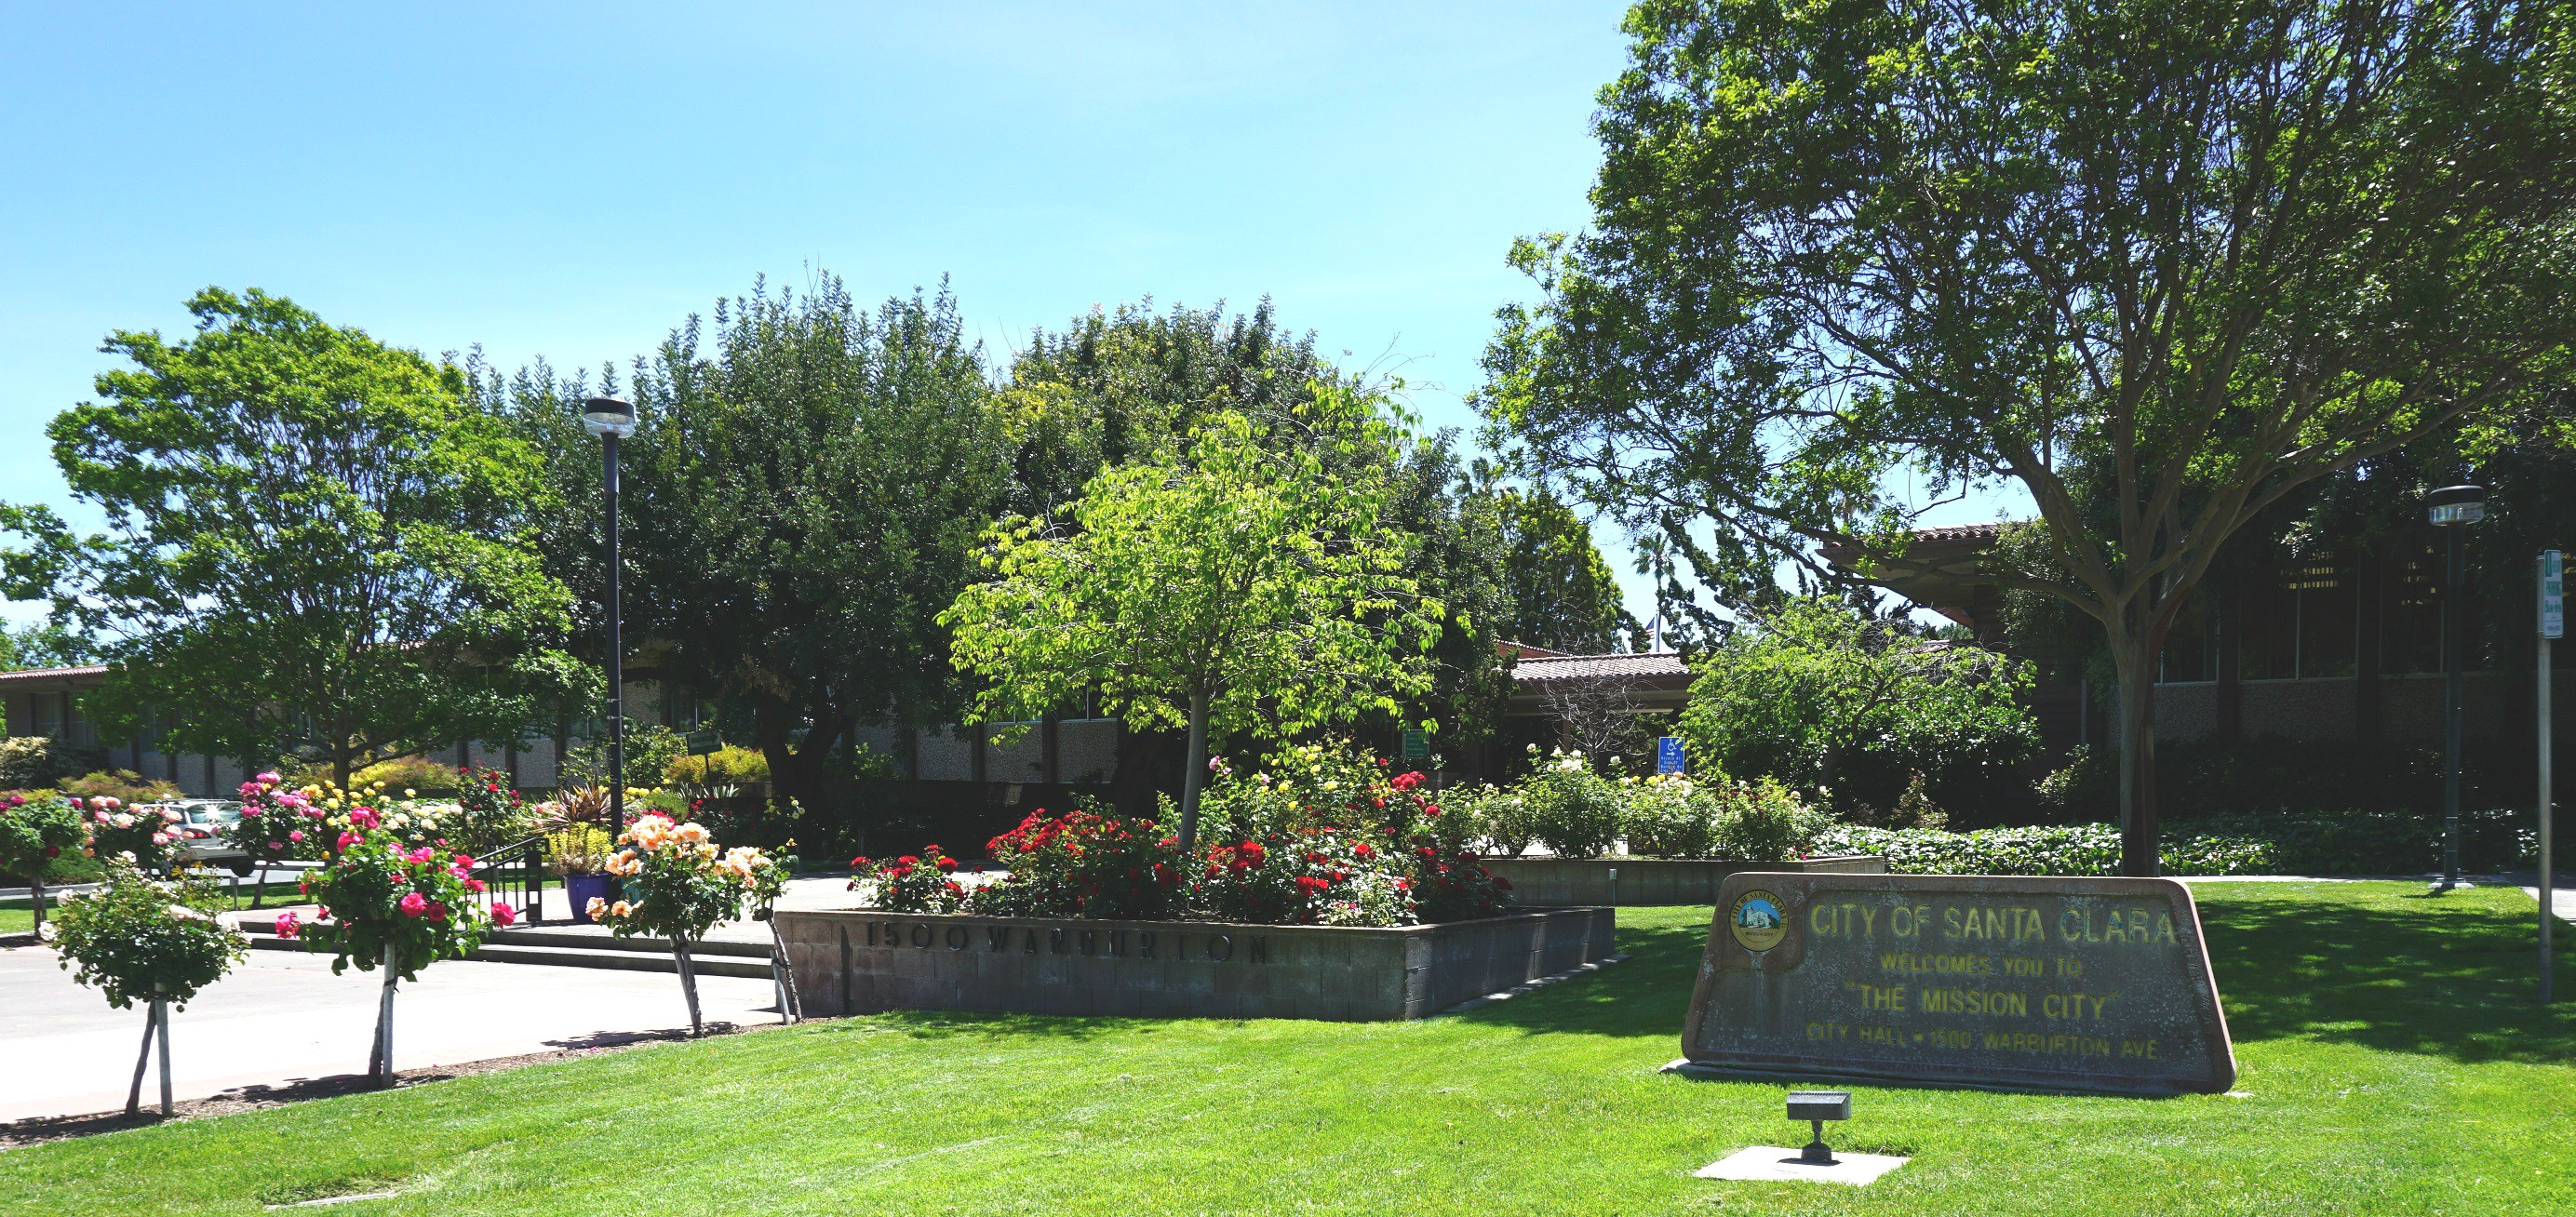tree: (1465, 2, 2576, 867), (2, 281, 578, 795), (935, 402, 1447, 907)
